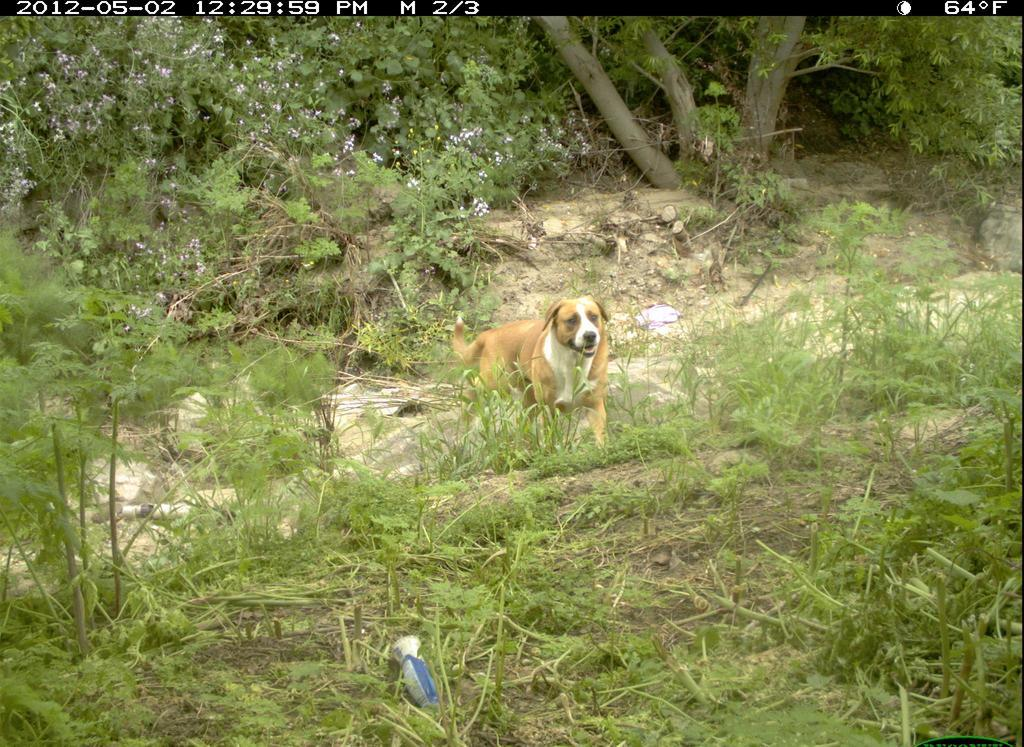dog: (438, 289, 625, 472)
